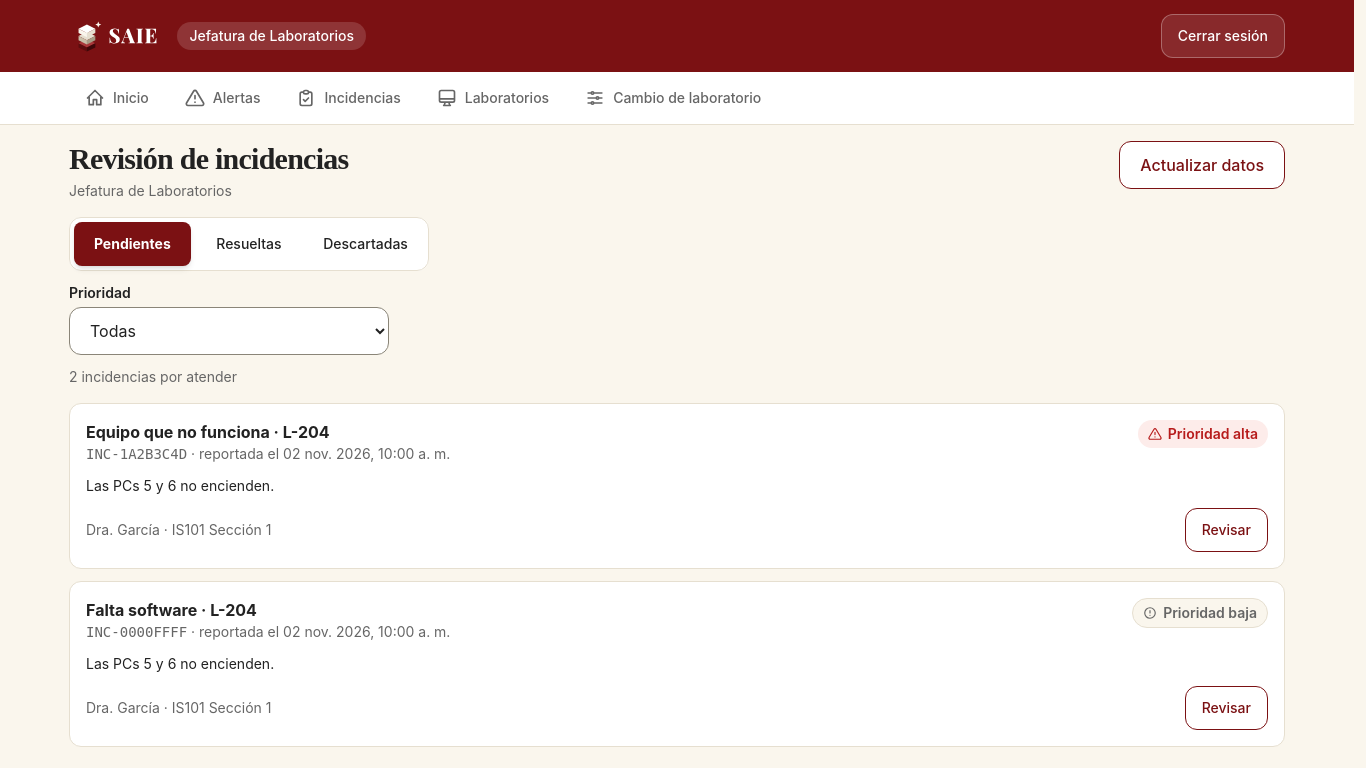
Test case: Revisión de incidencias por Jefatura (Issues 7.11 y 7.12) › muestra el detalle técnico del laboratorio junto a la incidencia
The width and height of the screenshot is (1366, 768).
Step 1. Click the button with aria-label "Revisar incidencia INC-1A2B3C4D" → (1226, 530), box [1185,508,1268,552]
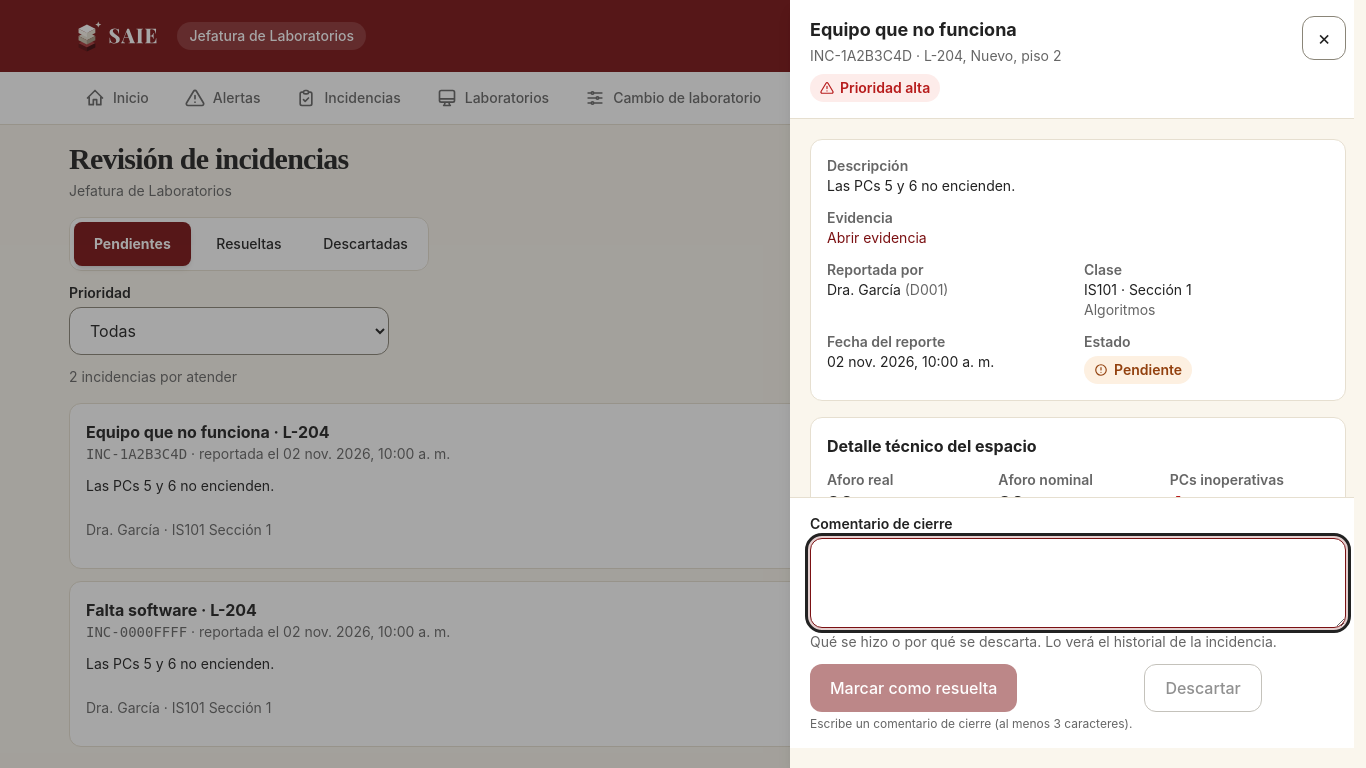
Result: the text "Las PCs 5 y 6 no encienden." is shown at [827,177,1015,194]
Result: the text "26" is shown at [827,492,853,516]
Result: the text "4" is shown at [1170,492,1183,516]
